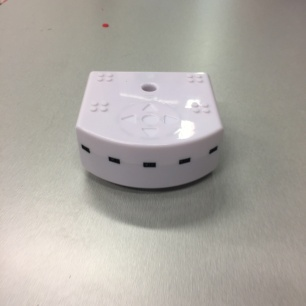thymio: (70, 64, 228, 206)
